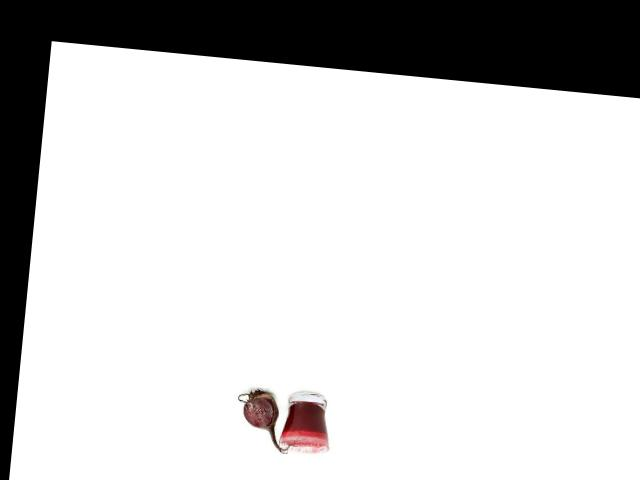beet: (233, 387, 302, 454)
